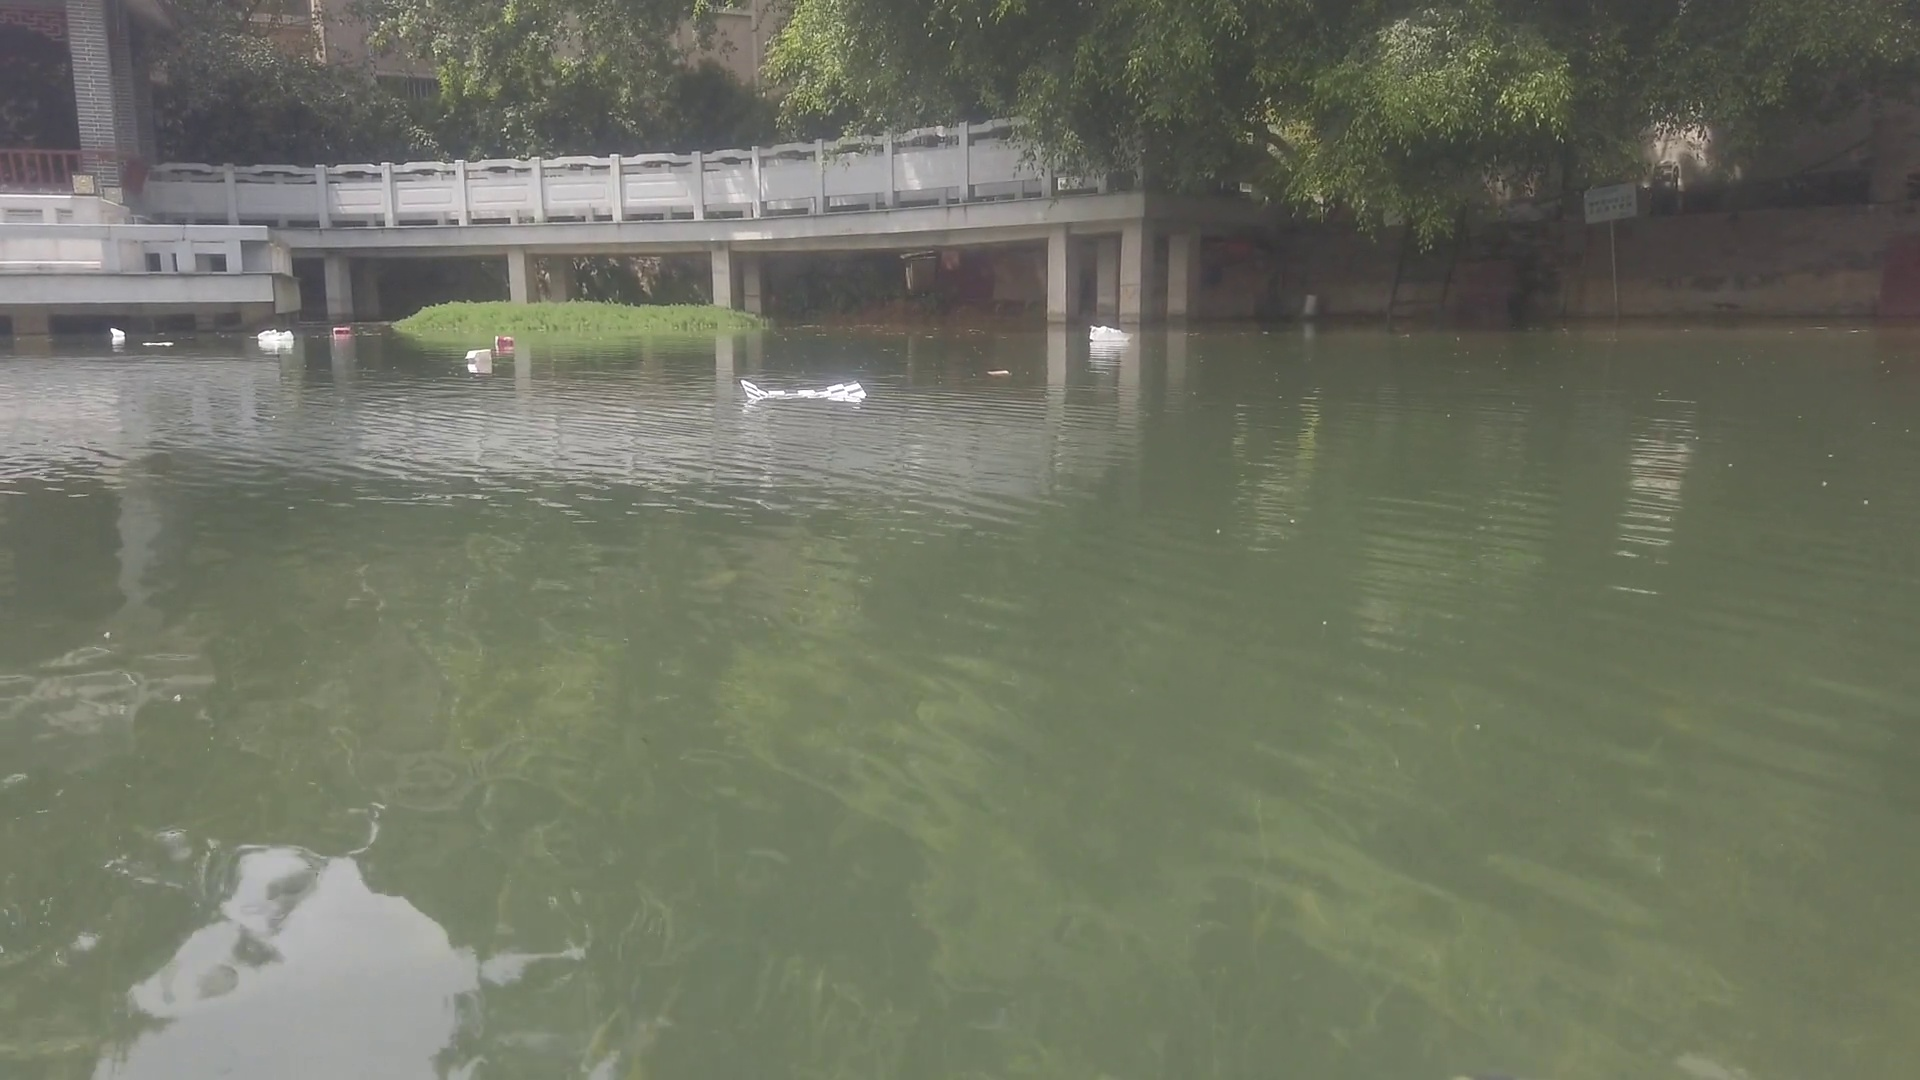bottle: (328, 320, 356, 335), (491, 332, 517, 344)
carton: (463, 347, 497, 363)
paper: (740, 375, 873, 406), (138, 335, 181, 352), (982, 364, 1011, 378)
plastic: (1085, 319, 1138, 345), (255, 326, 295, 342), (109, 324, 128, 338)
